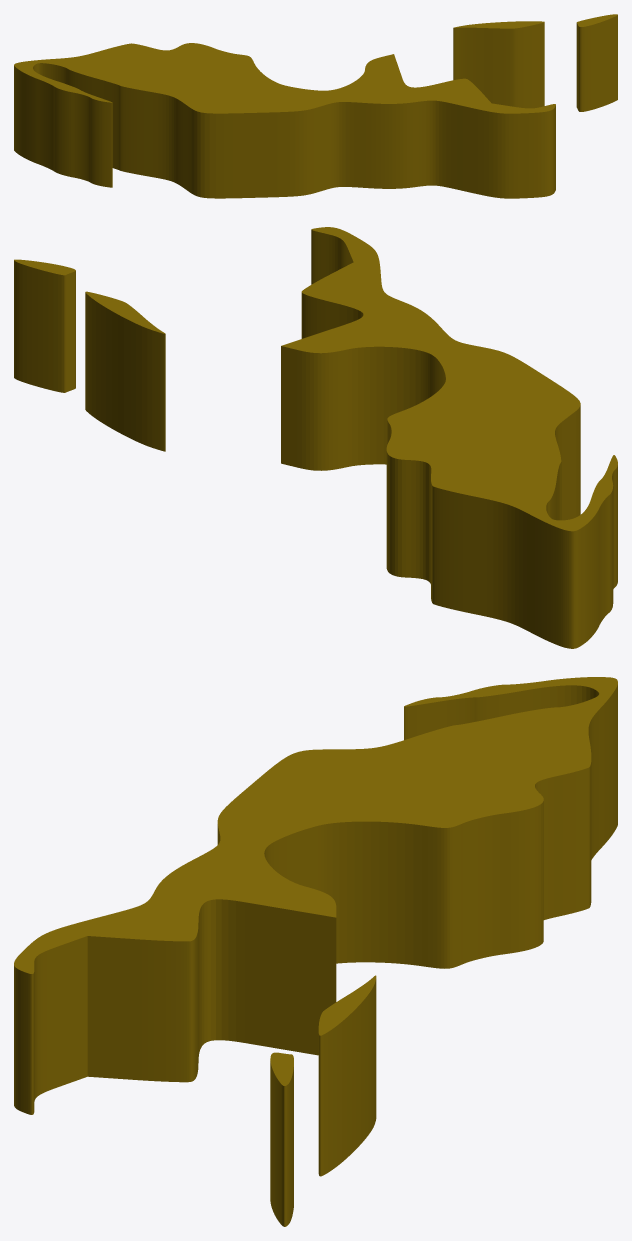
The model's file is North_America_03.obj.
3 views of the same model, one above another, from view 1: azimuth 30°, elevation 25°; view 2: azimuth 150°, elevation 25°; view 3: azimuth 270°, elevation 25° (orthographic). The views are drawn at different scales.
Parts seen in each view (by area): view 1: North_America_03_path4188; view 2: North_America_03_path4188; view 3: North_America_03_path4188.
Boxes of the visible parts, left/top/right/bottom form: North_America_03_path4188: left=14, top=14, right=617, bottom=198; North_America_03_path4188: left=14, top=227, right=617, bottom=648; North_America_03_path4188: left=14, top=677, right=617, bottom=1226.
Size of the model in its own units: 0.6231 by 0.1 by 0.3887.
